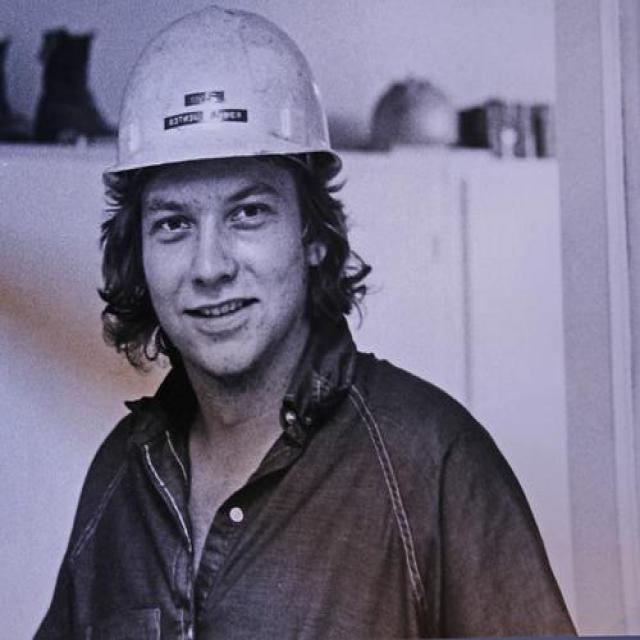Safety-Helmet: (104, 9, 348, 190)
